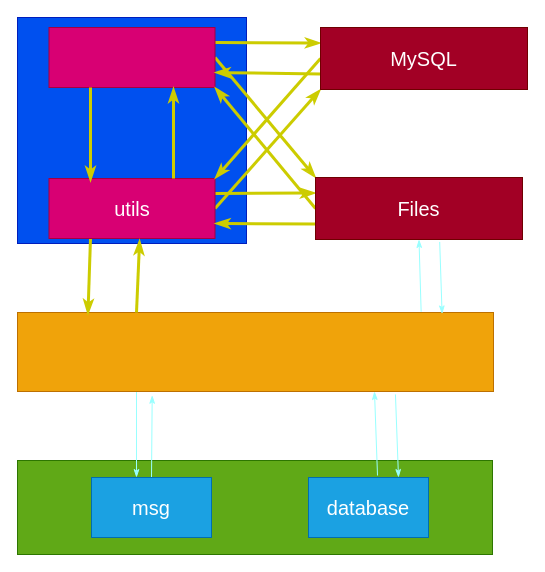
This 545x572 diagram has some shape labels left out. The shapes that lost their labels are listed below. From the top down, each one's centre as x and y in pixels, then its label:
the point at 131,57: plugins
the point at 255,352: Wcf
